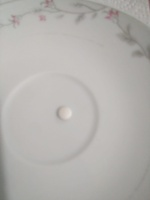Yuvarlak Buskopan: (56, 105, 72, 121)
